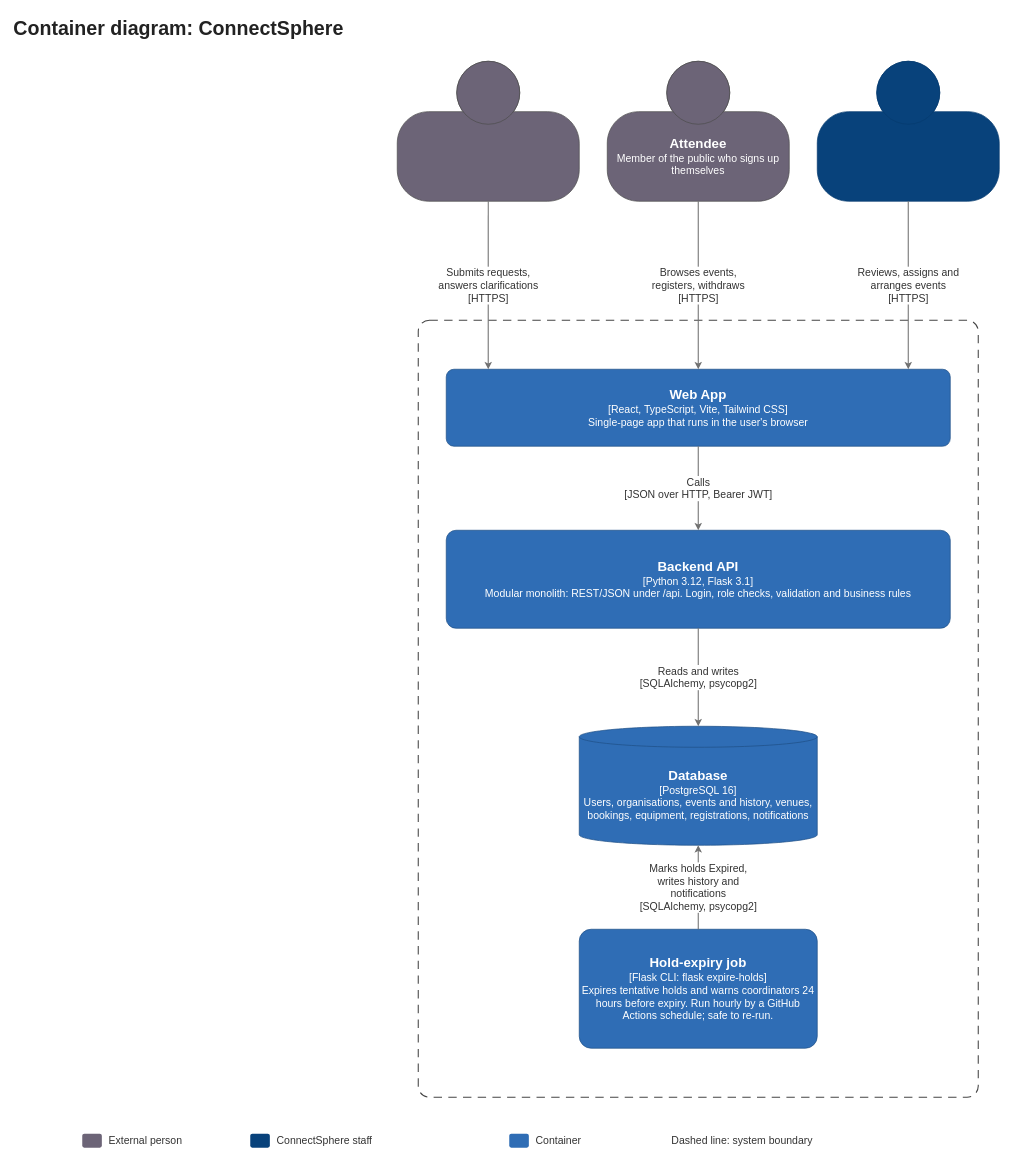
The diagram is 1012 pixels wide and 1161 high, and some of its shapes have lost their labels. The box of each missing label's shape, as (x1, y1, x2, y2) in pixels:
ConnectSphere [Software system]: (417, 319, 978, 1097)
ConnectSphere staff The five staff roles, created by CLI command: (817, 61, 999, 201)
Event Organiser Client representative who signs up themselves: (397, 61, 579, 201)
